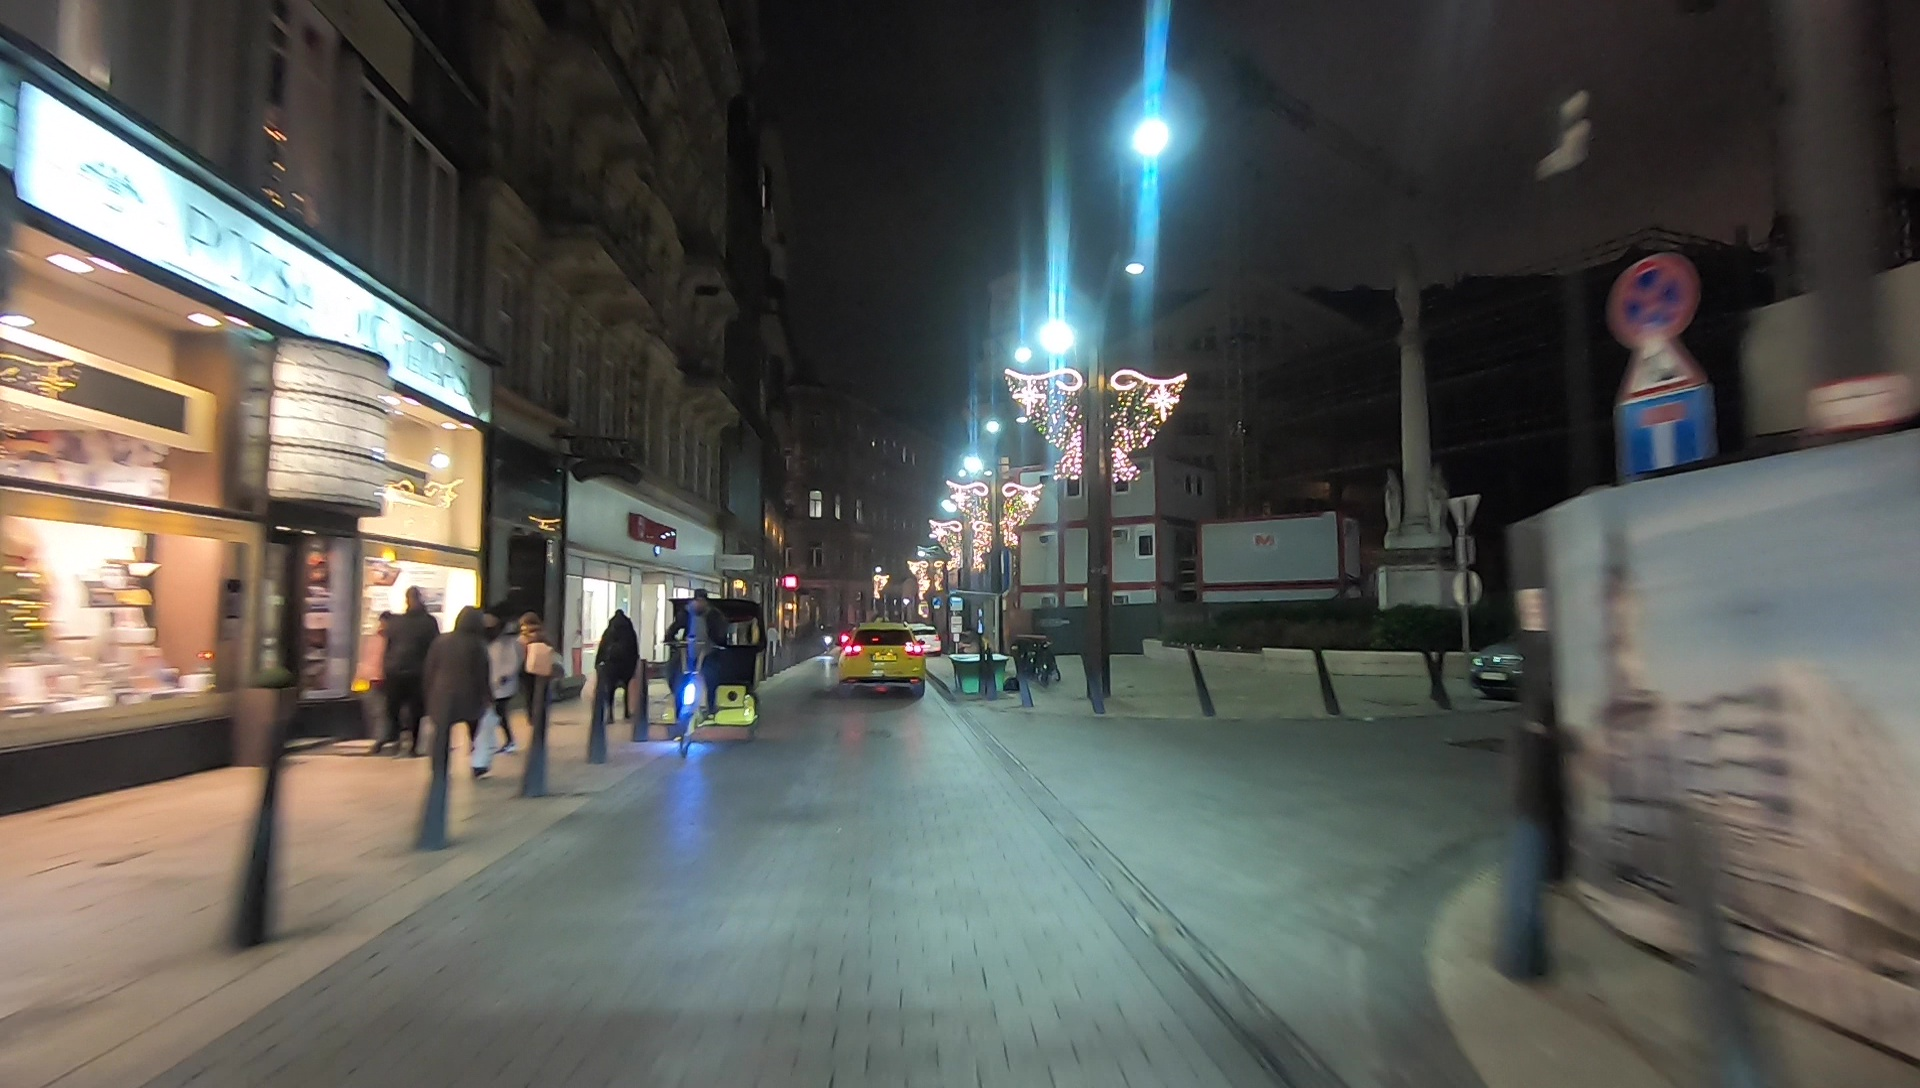person: (426, 605, 494, 782), (389, 585, 438, 755), (474, 605, 524, 767), (593, 604, 637, 723), (367, 610, 401, 755)
